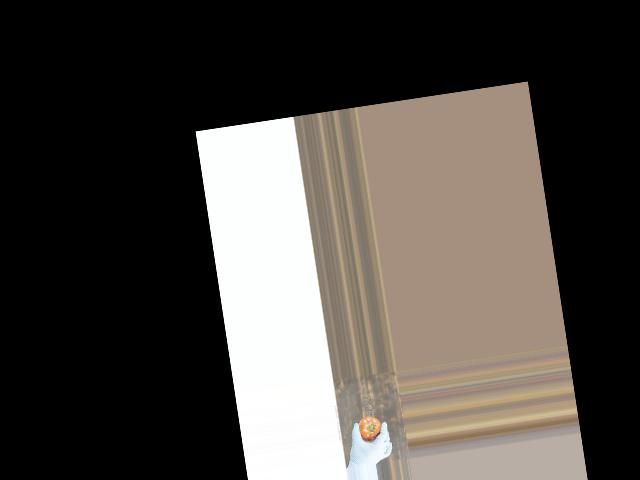tomato: (357, 414, 383, 442)
